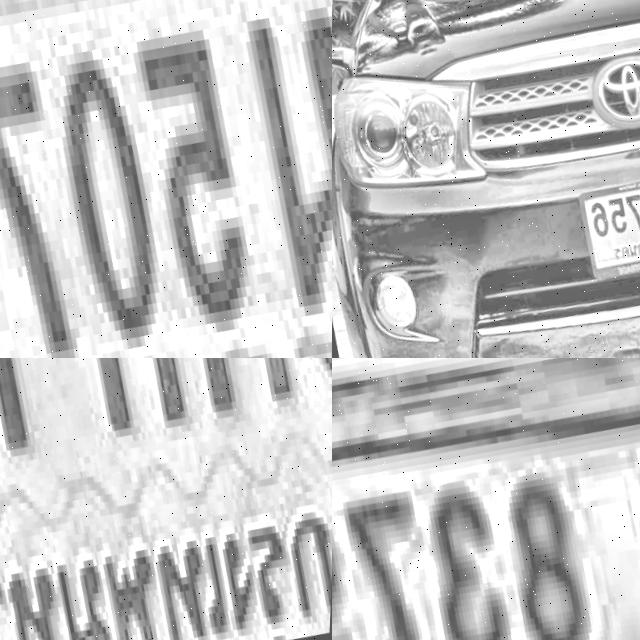license-plate: (0, 0, 332, 358), (0, 358, 332, 640), (332, 358, 640, 640), (576, 154, 640, 286)
